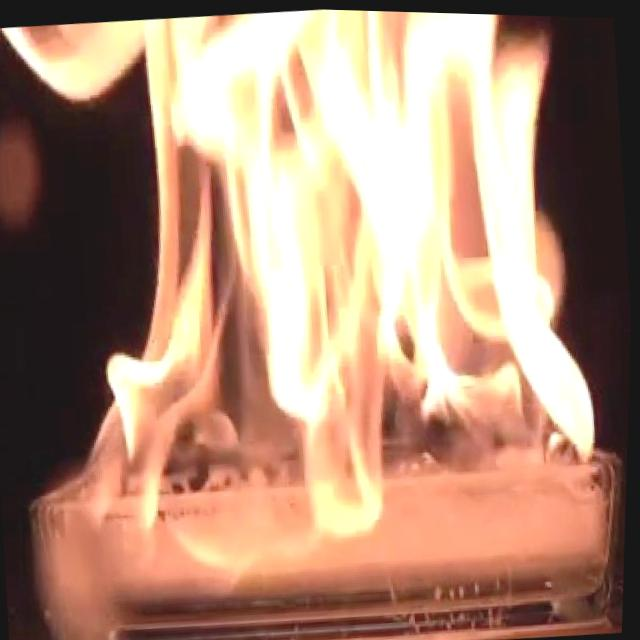Fire: (0, 0, 622, 568)
